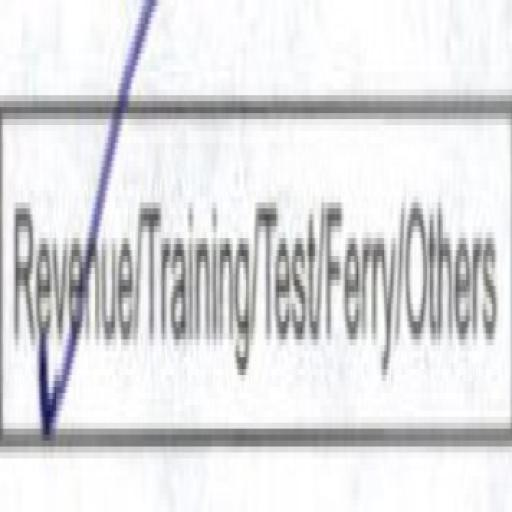check: (0, 30, 134, 458)
